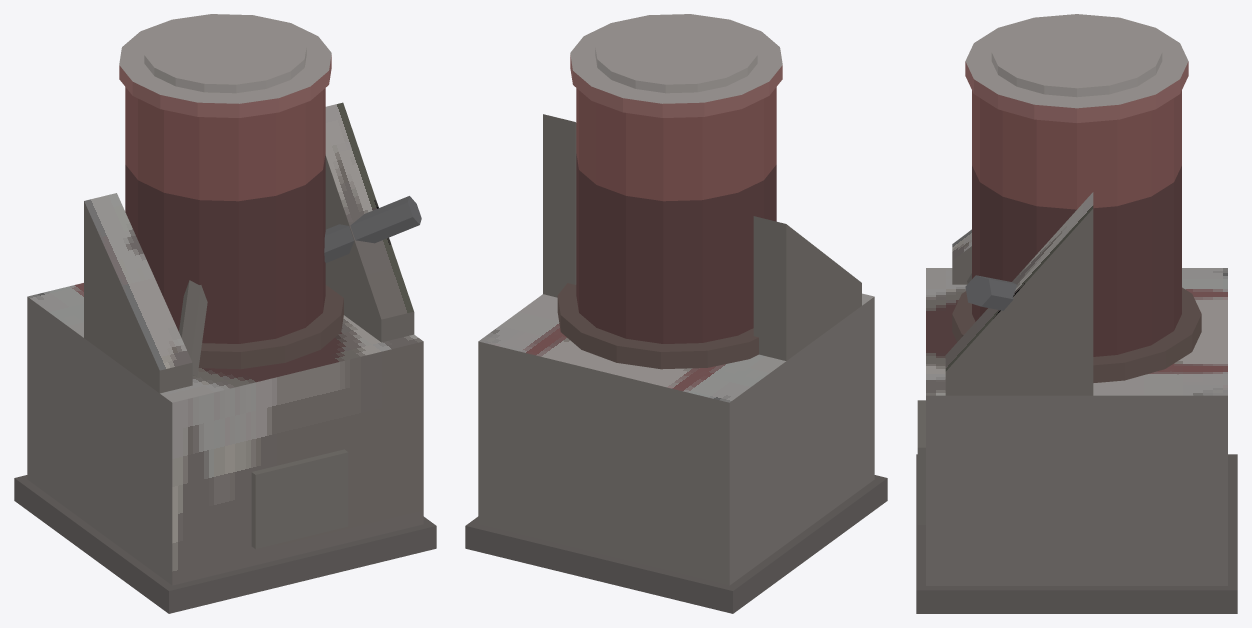
Rendered from Building_AncientFuelNode__C.glb.
3 views of the same model, side by side, from view 1: azimuth 30°, elevation 25°; view 2: azimuth 150°, elevation 25°; view 3: azimuth 270°, elevation 25° (orthographic). The views are drawn at different scales.
Visible parts, largest first — view 1: AncientFuelNode__C; view 2: AncientFuelNode__C; view 3: AncientFuelNode__C.
Part boxes in pixels (x1,y1,x2,y2): AncientFuelNode__C: [14, 14, 436, 613]; AncientFuelNode__C: [465, 14, 887, 613]; AncientFuelNode__C: [916, 14, 1237, 613].
Size of the model in its own units: 1.04 by 1.66 by 0.98.
Materials: 1 (1 with a texture image).
